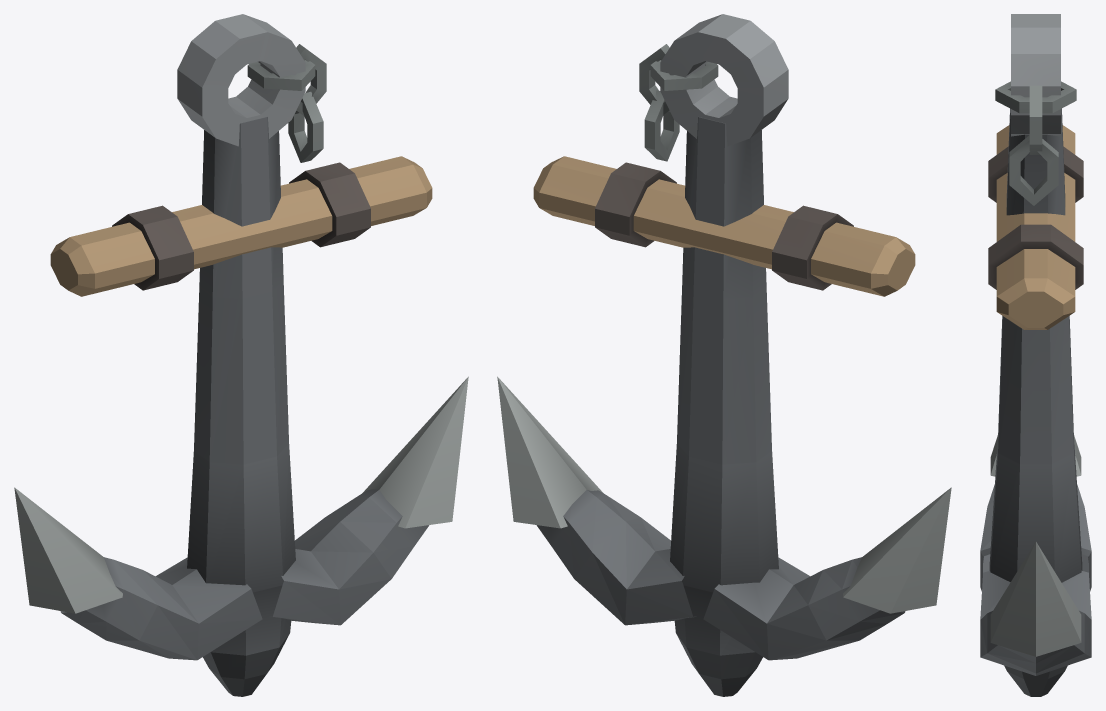
File: anchor.glb
3 views of the same model, side by side, from view 1: azimuth 30°, elevation 25°; view 2: azimuth 150°, elevation 25°; view 3: azimuth 270°, elevation 25° (orthographic).
Visible parts, largest first — view 1: anchor; view 2: anchor; view 3: anchor.
Boxes of the visible parts, x1,y1,x2,y2 form: anchor: (14, 14, 468, 696); anchor: (497, 14, 951, 696); anchor: (980, 14, 1091, 696).
Bounding box in the file's own units: 1.79 × 2.51 × 0.378.
